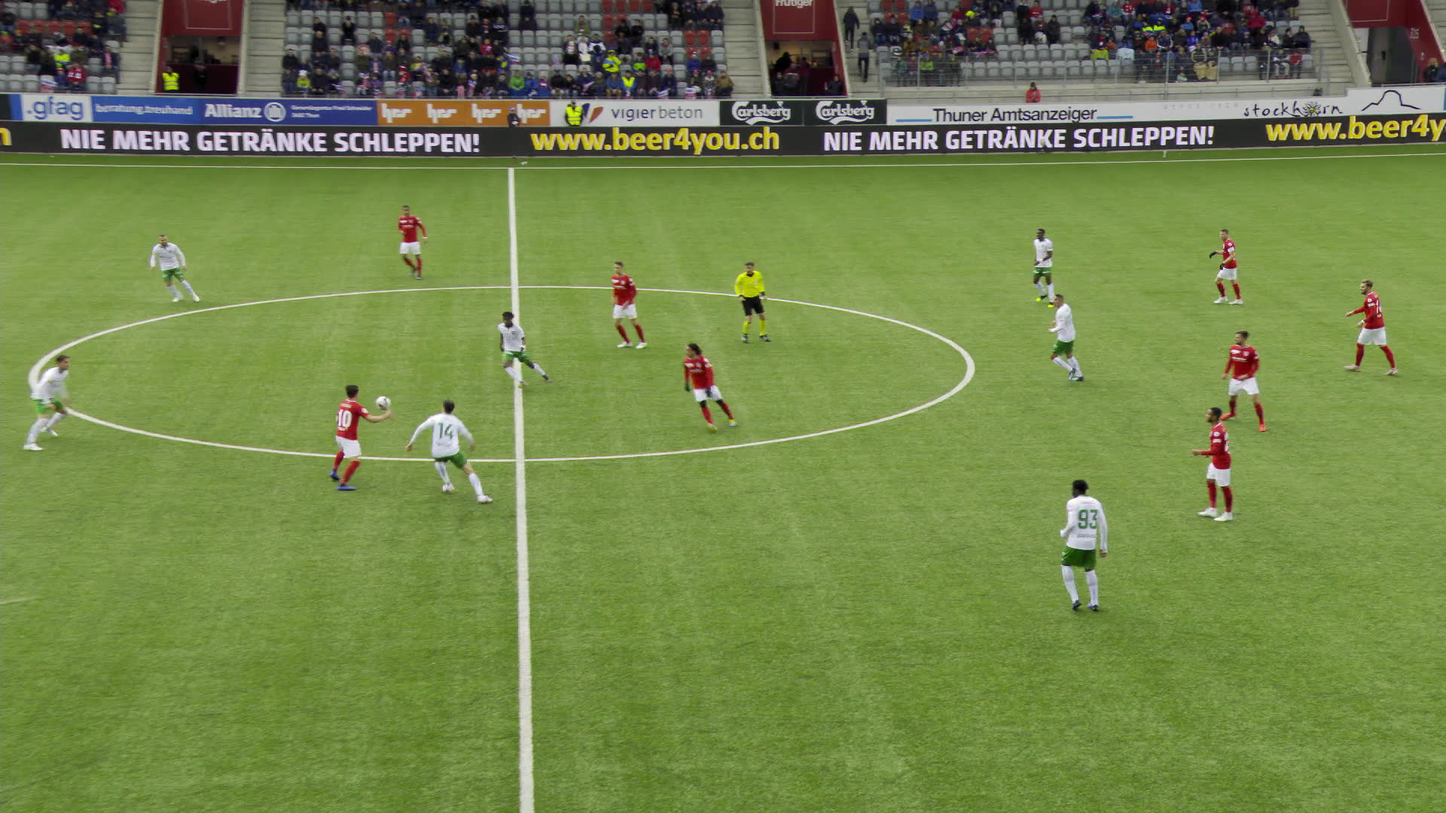ball: (376, 395, 389, 410)
player: (408, 399, 487, 507), (1059, 480, 1111, 615), (327, 383, 390, 492), (14, 354, 69, 453), (1189, 406, 1234, 523), (1344, 278, 1399, 373), (1218, 328, 1266, 432), (679, 345, 733, 431), (495, 310, 551, 387), (148, 233, 200, 305), (607, 260, 649, 349), (1046, 293, 1084, 383), (1208, 227, 1241, 306), (392, 206, 425, 282), (1030, 227, 1057, 307)
referee: (730, 262, 773, 346)
